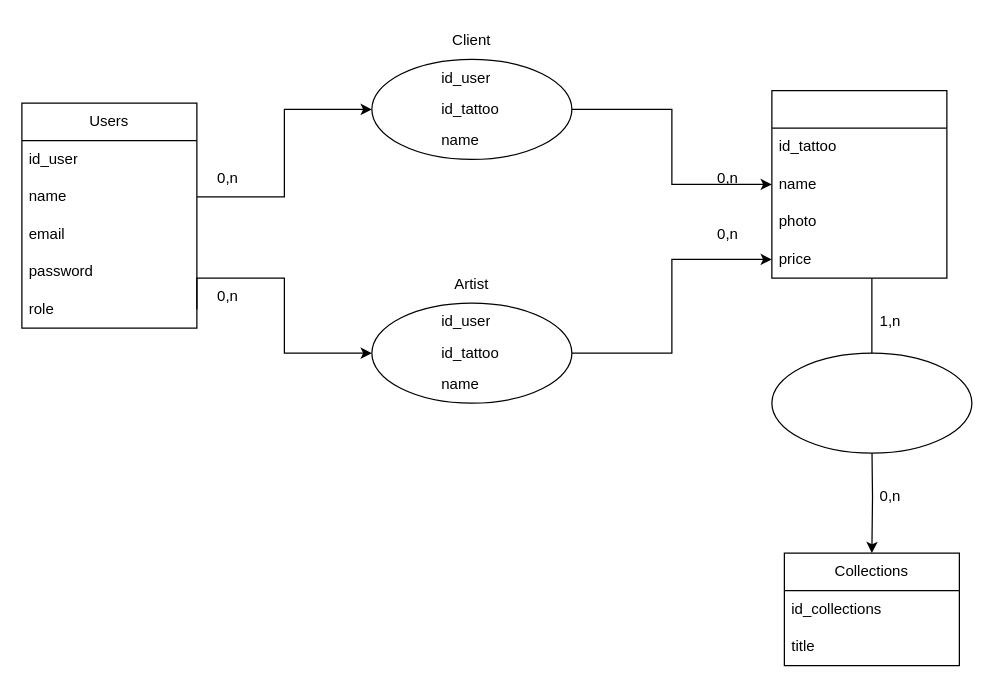
This 994x688 diagram has some shape labels left out. Here are the shapes that lost their labels. From the top down, the box of each, then its label:
(771, 89, 947, 278): Tattoos
(771, 352, 972, 453): Category
